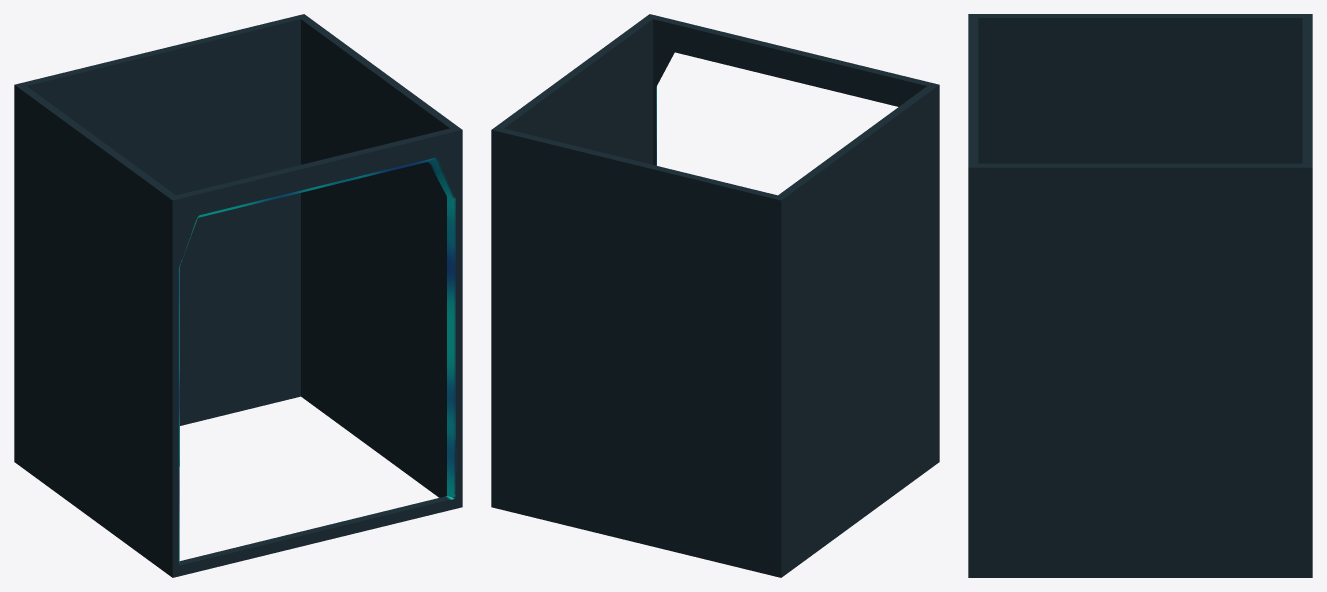
Rendered from Ev_RoadEnd.fbx.
3 views of the same model, side by side, from view 1: azimuth 30°, elevation 25°; view 2: azimuth 150°, elevation 25°; view 3: azimuth 270°, elevation 25° (orthographic). The views are drawn at different scales.
Visible parts, largest first — view 1: Ev_RoadEnd; view 2: Ev_RoadEnd; view 3: Ev_RoadEnd.
Part boxes in pixels (bbox=[...]): Ev_RoadEnd: bbox=[14, 14, 462, 577]; Ev_RoadEnd: bbox=[491, 14, 939, 577]; Ev_RoadEnd: bbox=[968, 14, 1312, 577].
Size of the model in its own units: 161 by 200 by 152.
1 material, 1 textured.
